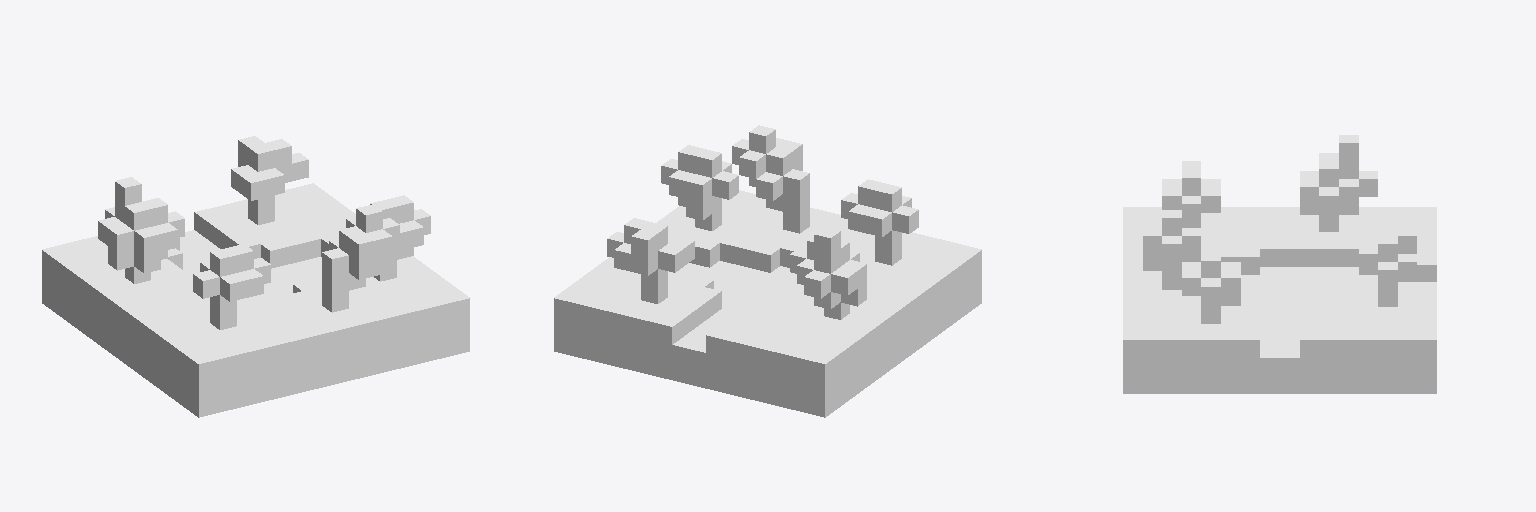
File: RiverCorner2.obj
3 renders of one model, left to right at view 1: azimuth 30°, elevation 25°; view 2: azimuth 150°, elevation 25°; view 3: azimuth 270°, elevation 25°, orthographic.
Visible parts, largest first — view 1: RiverCorner2; view 2: RiverCorner2; view 3: RiverCorner2.
Part boxes in pixels (x1,y1,x2,y2): RiverCorner2: (42,136,469,417); RiverCorner2: (554,125,981,417); RiverCorner2: (1123,135,1436,393).
Bounding box in the file's own units: 16 × 8 × 16.